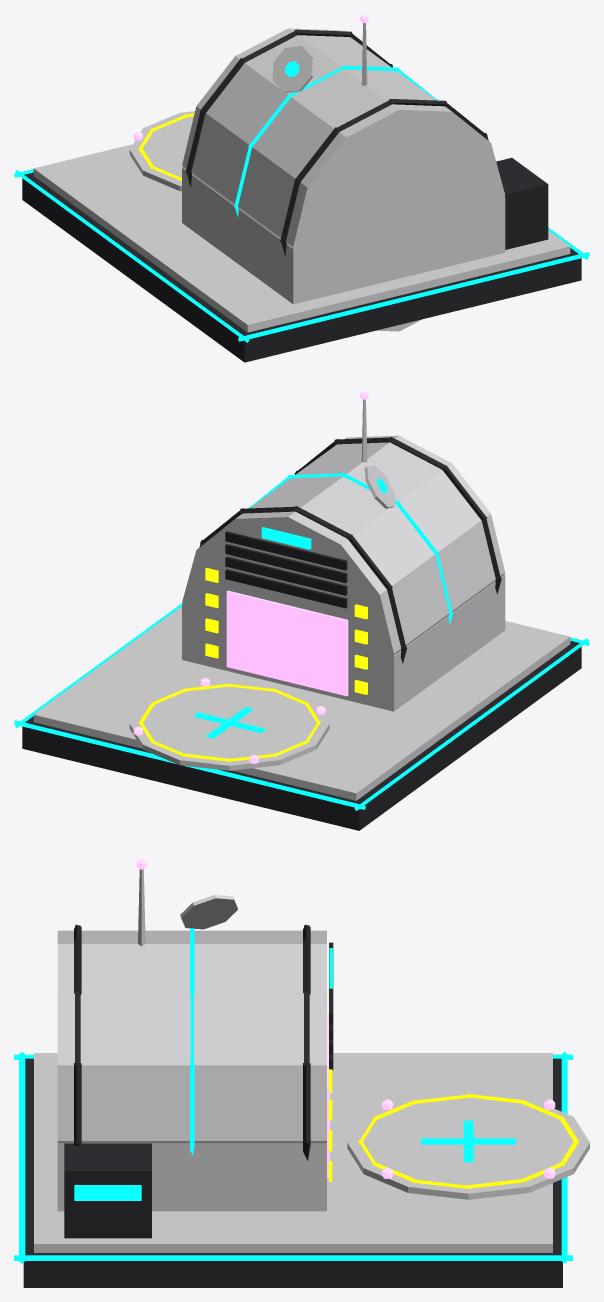
Rendered from SentryDroneHangar.fbx.
3 renders of one model, top to bottom at view 1: azimuth 30°, elevation 25°; view 2: azimuth 150°, elevation 25°; view 3: azimuth 270°, elevation 25°, orthographic. The views are drawn at different scales.
Visible parts, largest first — view 1: Hangar_Arch, Hangar_SlabTop, Hangar_Walls, Hangar_Slab, Hangar_Booth, Hangar_SlabGlow, Hangar_Pad, Hangar_Rib0, Hangar_Rib2, Hangar_Dish, Hangar_Rib1, Hangar_PadRing; view 2: Hangar_Arch, Hangar_SlabTop, Hangar_Slab, Hangar_Pad, Hangar_Walls, Hangar_BayGlow, Hangar_SlabGlow, Hangar_Rib2, Hangar_Rib0, Hangar_PadRing, Hangar_BayShutter0, Hangar_BayShutter1 (+5 smaller); view 3: Hangar_Arch, Hangar_SlabTop, Hangar_Slab, Hangar_Pad, Hangar_Walls, Hangar_Booth, Hangar_SlabGlow, Hangar_PadRing, Hangar_Rib2, Hangar_Rib0, Hangar_Dish, Hangar_BoothWin (+2 smaller).
Part boxes in pixels (x1=…): Hangar_Arch: x1=182, y1=28, x2=504, y2=331; Hangar_SlabTop: x1=33, y1=144, x2=570, y2=332; Hangar_Walls: x1=182, y1=167, x2=505, y2=304; Hangar_Slab: x1=22, y1=172, x2=581, y2=362; Hangar_Booth: x1=496, y1=157, x2=548, y2=249; Hangar_SlabGlow: x1=14, y1=169, x2=589, y2=342; Hangar_Pad: x1=129, y1=111, x2=194, y2=191; Hangar_Rib0: x1=280, y1=99, x2=488, y2=256; Hangar_Rib2: x1=185, y1=29, x2=392, y2=187; Hangar_Dish: x1=272, y1=46, x2=314, y2=92; Hangar_Rib1: x1=234, y1=65, x2=438, y2=217; Hangar_PadRing: x1=139, y1=113, x2=194, y2=181; Hangar_Arch: x1=182, y1=435, x2=505, y2=707; Hangar_SlabTop: x1=33, y1=606, x2=570, y2=800; Hangar_Slab: x1=22, y1=641, x2=581, y2=830; Hangar_Pad: x1=129, y1=681, x2=329, y2=770; Hangar_Walls: x1=182, y1=574, x2=505, y2=711; Hangar_BayGlow: x1=226, y1=590, x2=348, y2=696; Hangar_SlabGlow: x1=14, y1=603, x2=589, y2=810; Hangar_Rib2: x1=199, y1=506, x2=406, y2=663; Hangar_Rib0: x1=294, y1=437, x2=501, y2=594; Hangar_PadRing: x1=139, y1=683, x2=320, y2=761; Hangar_BayShutter0: x1=225, y1=569, x2=347, y2=608; Hangar_BayShutter1: x1=225, y1=556, x2=347, y2=595; Hangar_Arch: x1=57, y1=930, x2=326, y2=1143; Hangar_SlabTop: x1=34, y1=1053, x2=552, y2=1252; Hangar_Slab: x1=23, y1=1058, x2=562, y2=1287; Hangar_Pad: x1=347, y1=1091, x2=589, y2=1199; Hangar_Walls: x1=57, y1=1143, x2=326, y2=1211; Hangar_Booth: x1=64, y1=1143, x2=151, y2=1238; Hangar_SlabGlow: x1=14, y1=1051, x2=572, y2=1263; Hangar_PadRing: x1=358, y1=1094, x2=578, y2=1188; Hangar_Rib2: x1=303, y1=924, x2=310, y2=1160; Hangar_Rib0: x1=74, y1=924, x2=81, y2=1145; Hangar_Dish: x1=180, y1=895, x2=237, y2=929; Hangar_BoothWin: x1=74, y1=1185, x2=141, y2=1200.
Bounding box in the file's own units: 1.45 × 1.18 × 1.71.
